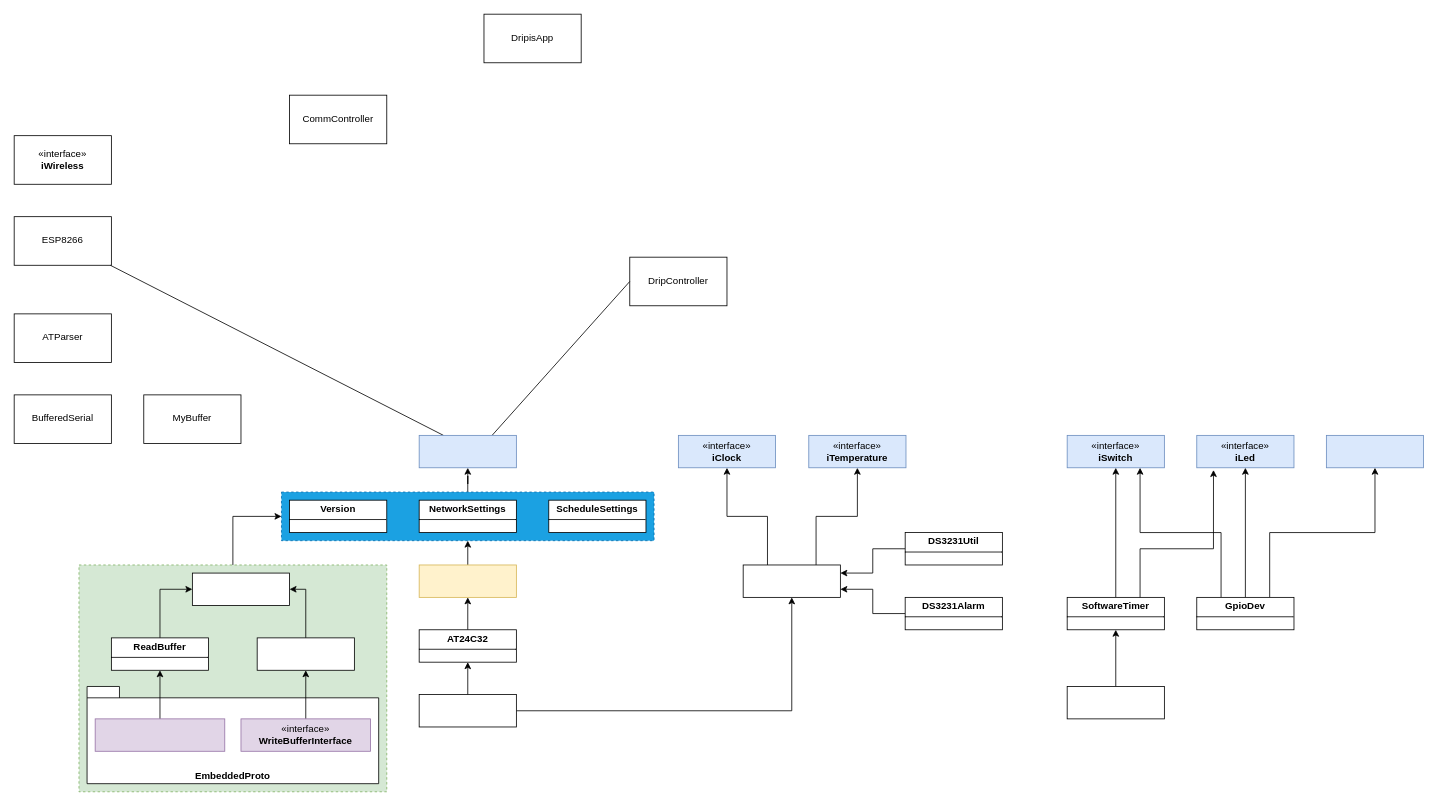
This 1438x806 diagram has some shape labels left out. Each missing label, with the centre of its shape:
DS3231: the point at 791,580
I2CDev: the point at 467,710
NetworkConfig: the point at 241,588
TimerDev: the point at 1115,702
WriteBuffer: the point at 305,653
«interface» iDeviceSettings: the point at 467,451
«interface» iMemory: the point at 467,580
«interface» iPin: the point at 1375,451
«interface» ReadBufferInterface: the point at 159,734
